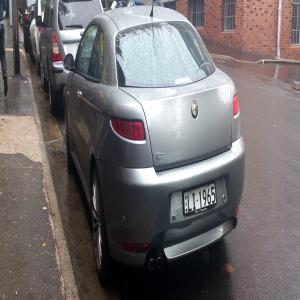Vehicle-registration-plate: (185, 184, 217, 214)
